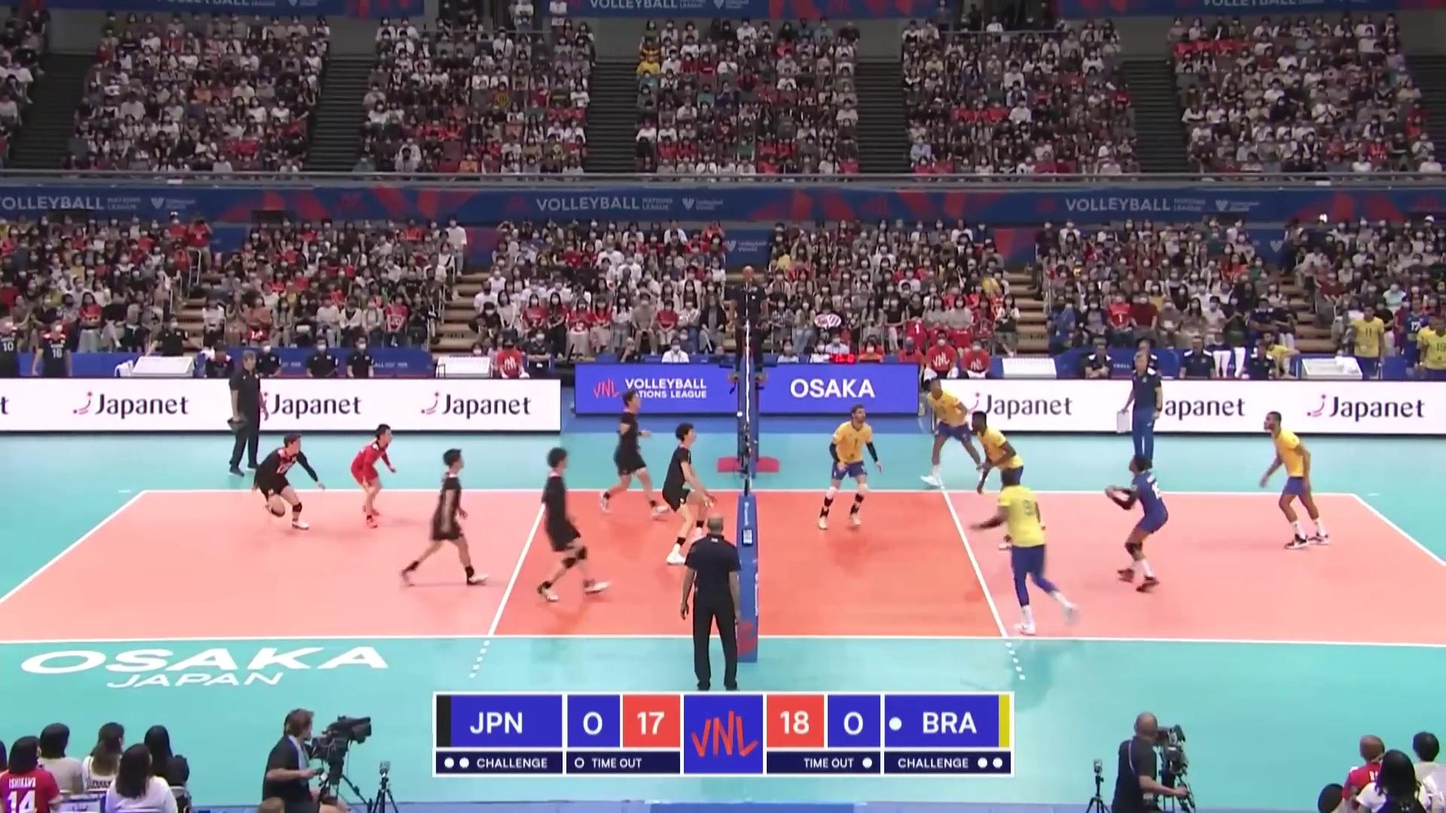player: (987, 467, 1084, 634), (399, 449, 492, 587), (529, 447, 608, 602), (1256, 412, 1331, 549), (1105, 456, 1169, 593), (599, 393, 669, 517), (970, 412, 1031, 550), (814, 404, 876, 530), (923, 378, 993, 487), (663, 421, 714, 565), (254, 434, 325, 532), (349, 423, 398, 529)
refree: (680, 519, 742, 691), (727, 261, 772, 391)
